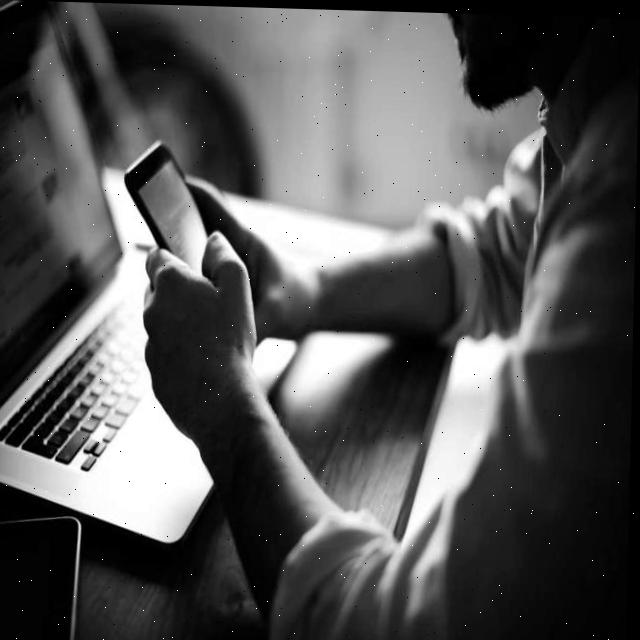phone: (123, 136, 214, 278)
